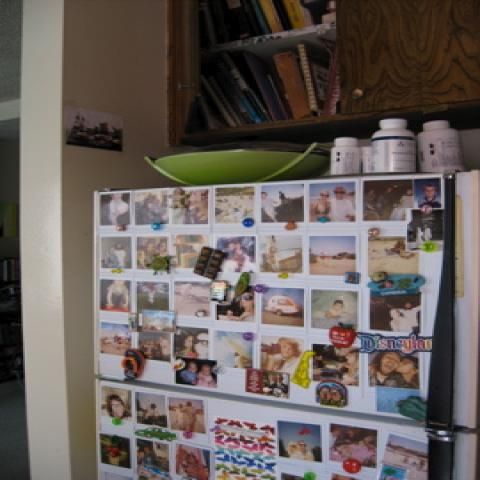car: (267, 295, 301, 316)
